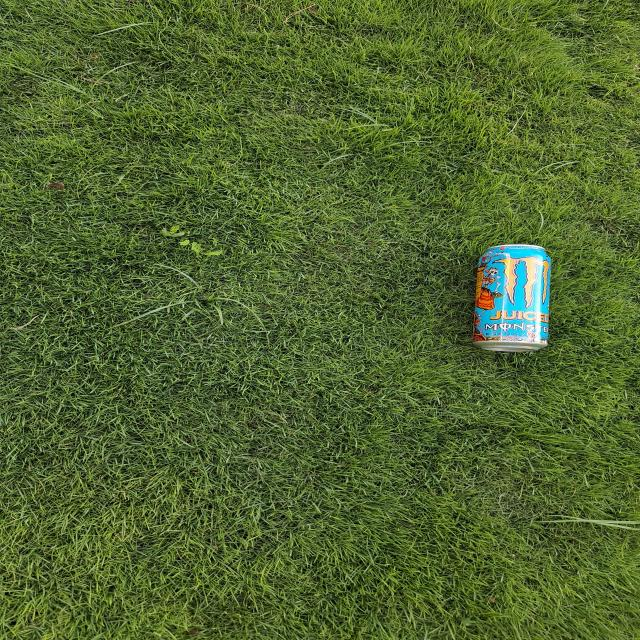Monster Mango Loco: (474, 244, 556, 353)
